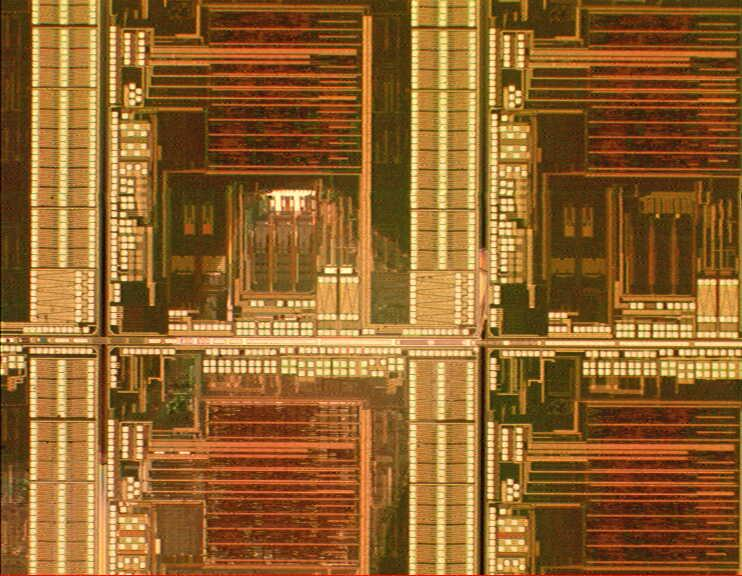COATING BAD: (1, 180, 506, 576)
